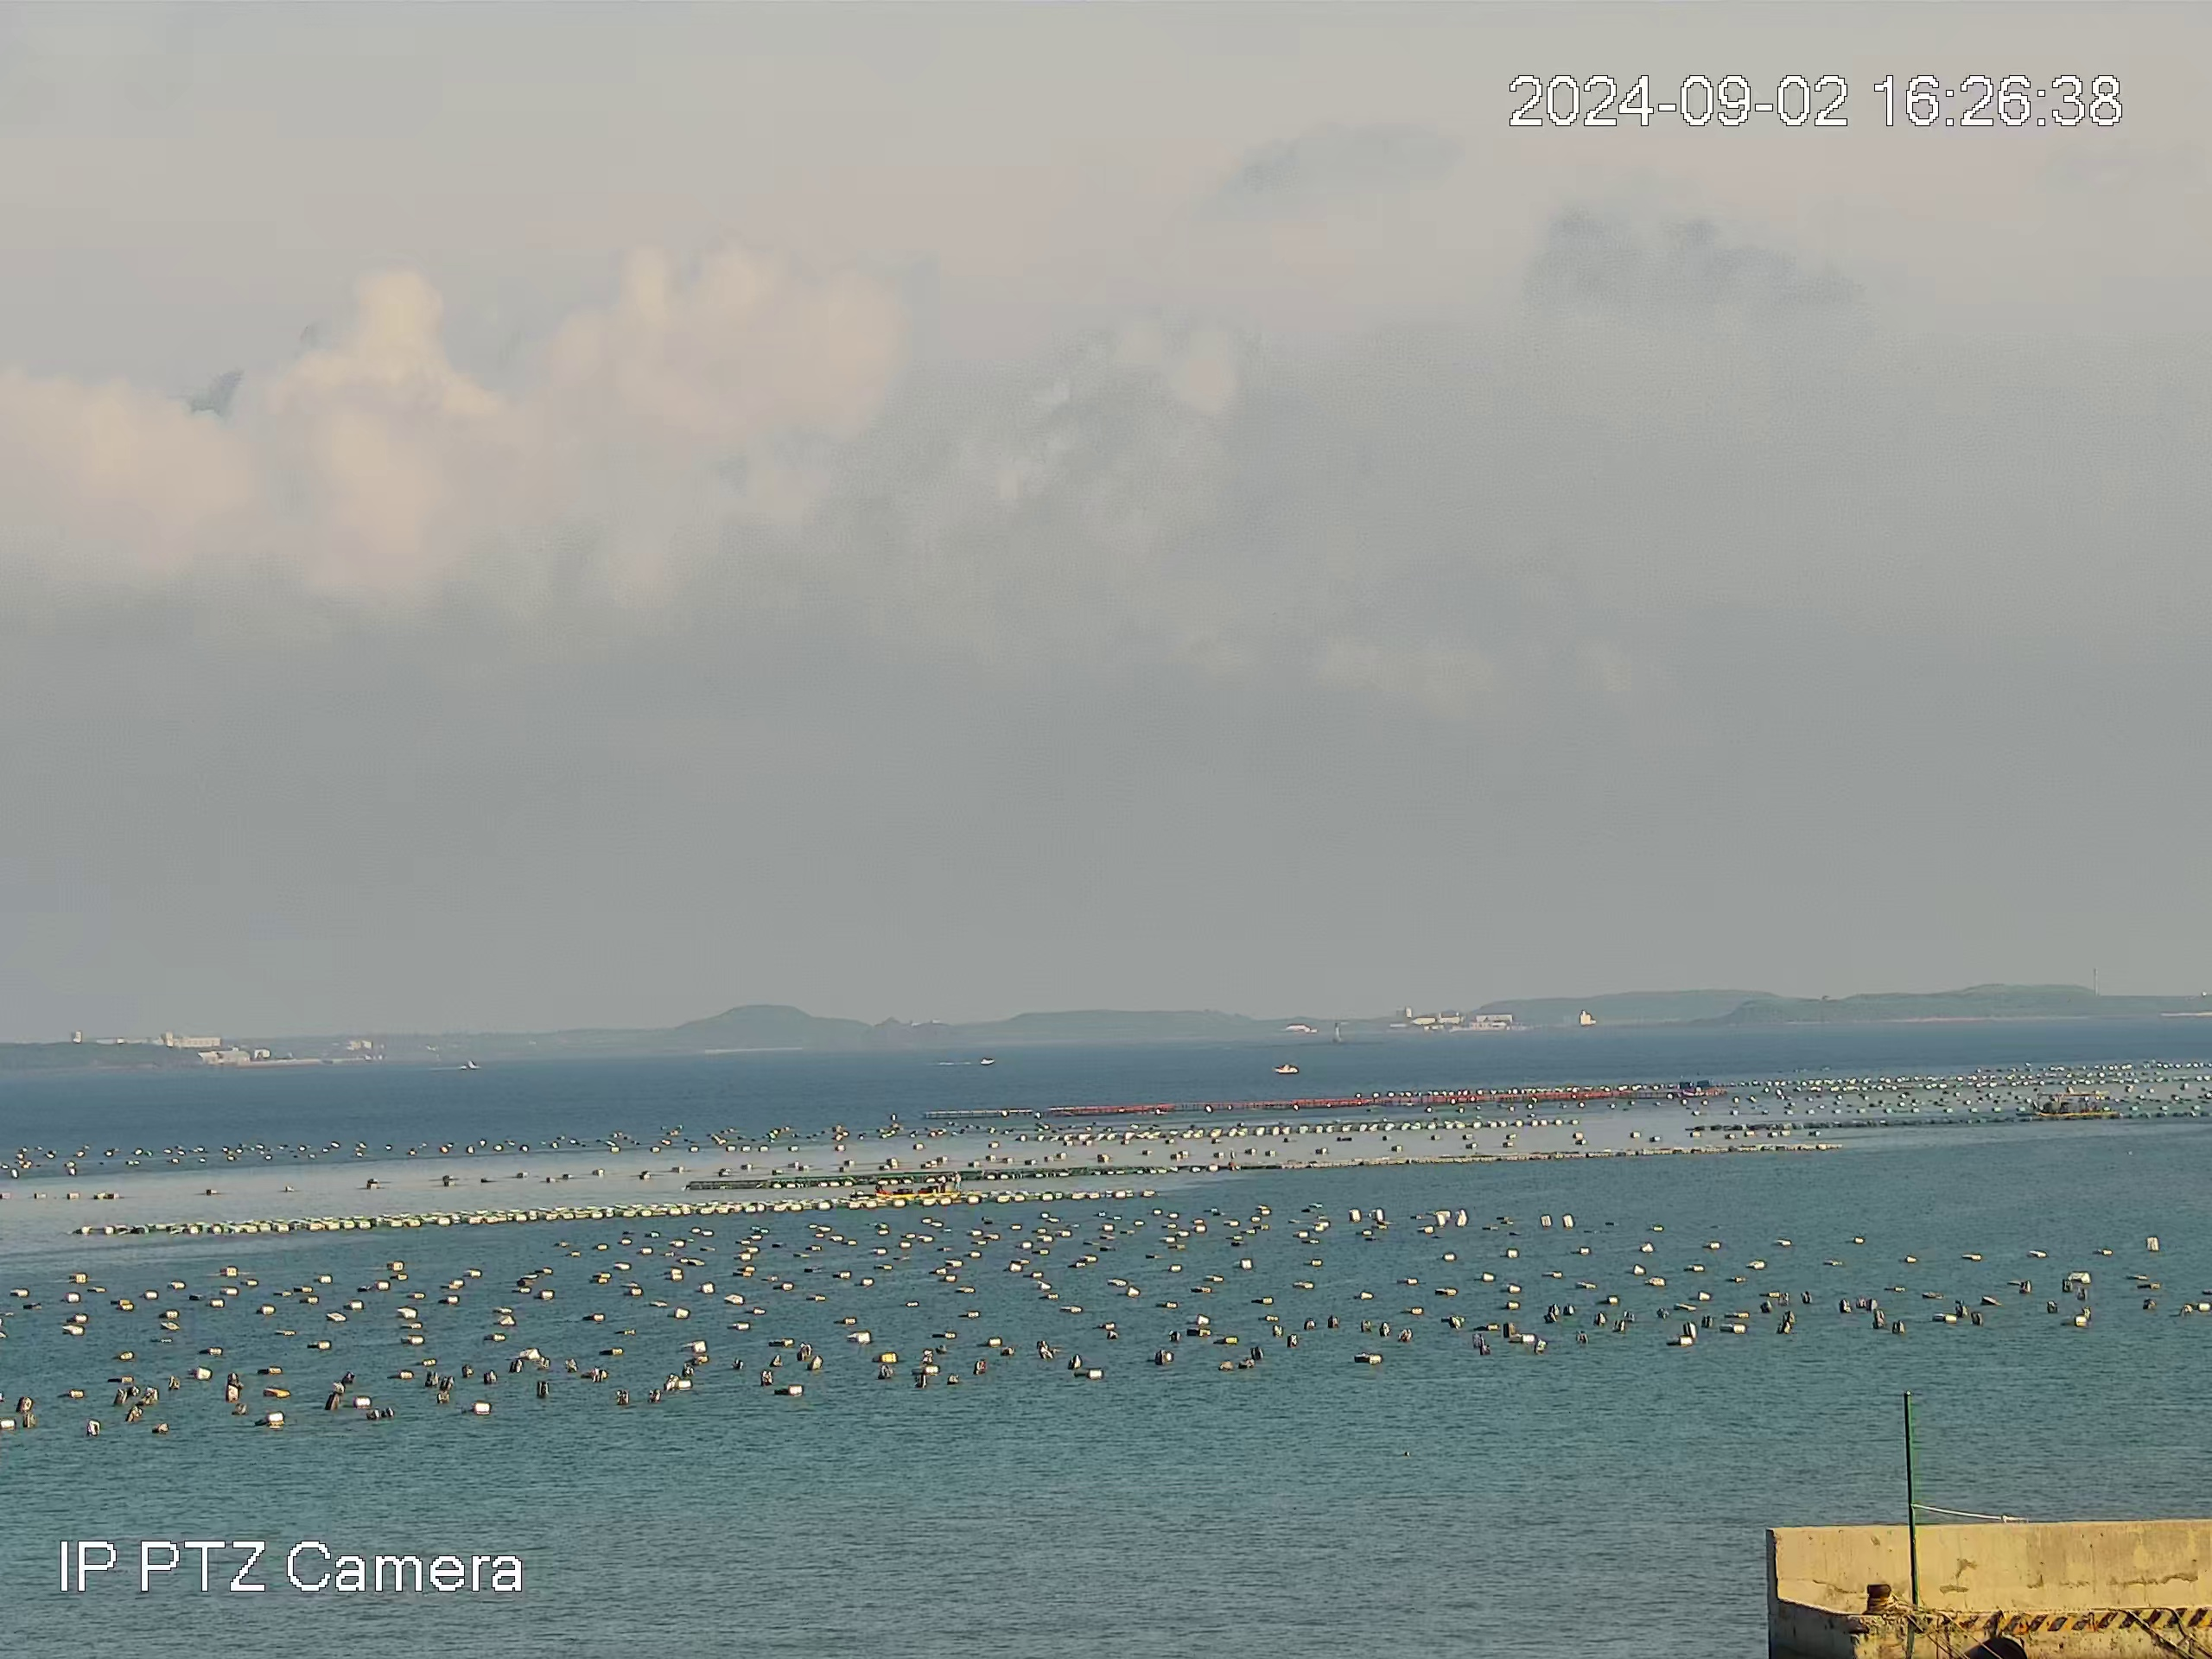boat: (2031, 1091, 2120, 1122), (873, 1175, 956, 1199), (1270, 1061, 1301, 1075), (979, 1056, 996, 1066)
